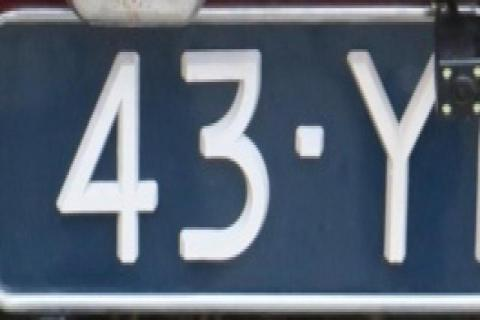LicensePlate: (1, 7, 480, 315)
